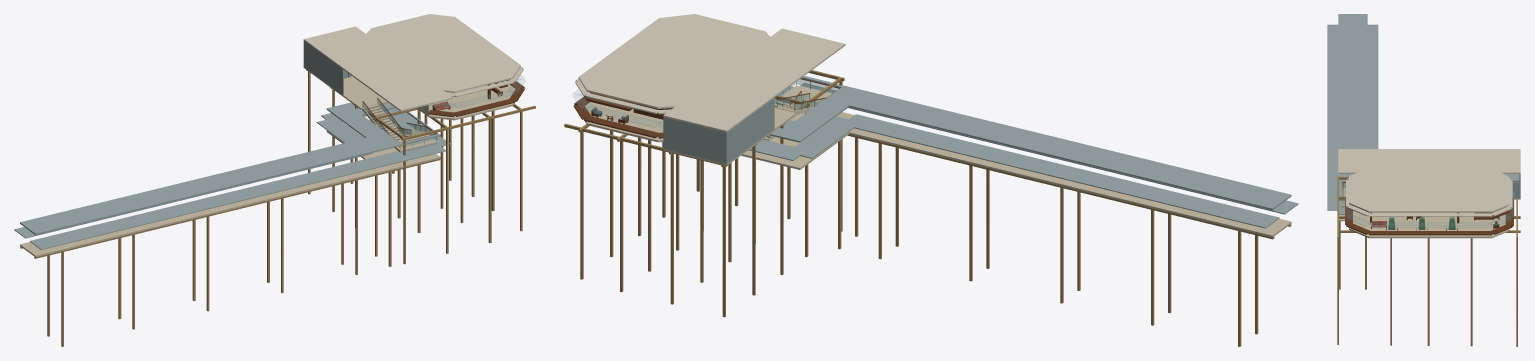
File: D04_STARBOARD_AFT_CO_r001.glb
3 renders of one model, left to right at view 1: azimuth 30°, elevation 25°; view 2: azimuth 150°, elevation 25°; view 3: azimuth 270°, elevation 25°, orthographic. The views are drawn at different scales.
Parts seen in each view (by area): view 1: SAC_CommonsRoof, SAC_LowerSharedRoof, SAC_LowerScreen_5, SAC_LowerSharedFloor, SAC_CommonsFloor, SAC_ServiceWest, SAC_StaffStair450, SAC_LowerTransfer_383.15, SAC_LowerScreen_3, SAC_LowerScreen_6, SAC_LowerScreen_0, SAC_LowerScreen_2 (+3 smaller); view 2: SAC_CommonsRoof, SAC_LowerSharedRoof, SAC_LowerScreen_3, SAC_LowerSharedFloor, SAC_ServiceNorth, SAC_CommonsFloor, SAC_ServiceWest, SAC_LowerScreen_2, SAC_LowerTransfer_379.25, SAC_LowerScreen_5, SAC_StaffStair450, SAC_LowerScreen_1 (+5 smaller); view 3: SAC_CommonsRoof, SAC_LowerSharedRoof, SAC_CommonsFloor, SAC_LowerScreen_5, SAC_LowerScreen_3, SAC_PerimeterGlass_3, SAC_PerimeterDado_3, SAC_PerimeterHead_3, SAC_LowerScreen_6, SAC_UpperBearing_82.45_363.5, SAC_UpperBearing_82.45_369.9, SAC_UpperBearing_82.45_356.7 (+3 smaller).
Part boxes in pixels (<box>): SAC_CommonsRoof: <box>303,14,520,111</box>; SAC_LowerSharedRoof: <box>20,102,440,234</box>; SAC_LowerScreen_5: <box>30,156,387,249</box>; SAC_LowerSharedFloor: <box>20,120,440,257</box>; SAC_CommonsFloor: <box>303,66,515,120</box>; SAC_ServiceWest: <box>303,41,343,94</box>; SAC_StaffStair450: <box>362,97,426,146</box>; SAC_LowerTransfer_383.15: <box>34,159,440,258</box>; SAC_LowerScreen_3: <box>14,153,372,238</box>; SAC_LowerScreen_6: <box>377,143,446,165</box>; SAC_LowerScreen_0: <box>383,108,450,146</box>; SAC_LowerScreen_2: <box>316,117,364,142</box>; SAC_CommonsRoof: <box>578,14,845,132</box>; SAC_LowerSharedRoof: <box>769,76,1291,210</box>; SAC_LowerScreen_3: <box>845,114,1279,228</box>; SAC_LowerSharedFloor: <box>741,112,1291,237</box>; SAC_ServiceNorth: <box>663,117,727,163</box>; SAC_CommonsFloor: <box>583,102,796,165</box>; SAC_ServiceWest: <box>725,98,774,163</box>; SAC_LowerScreen_2: <box>795,116,860,158</box>; SAC_LowerTransfer_379.25: <box>847,134,1274,239</box>; SAC_LowerScreen_5: <box>861,110,1298,214</box>; SAC_StaffStair450: <box>763,81,827,140</box>; SAC_LowerScreen_1: <box>748,139,806,160</box>; SAC_CommonsRoof: <box>1338,149,1520,212</box>; SAC_LowerSharedRoof: <box>1338,14,1367,200</box>; SAC_CommonsFloor: <box>1349,198,1520,238</box>; SAC_LowerScreen_5: <box>1327,24,1345,183</box>; SAC_LowerScreen_3: <box>1367,24,1378,148</box>; SAC_PerimeterGlass_3: <box>1369,222,1491,227</box>; SAC_PerimeterDado_3: <box>1369,231,1492,235</box>; SAC_PerimeterHead_3: <box>1369,213,1492,216</box>; SAC_LowerScreen_6: <box>1327,183,1345,210</box>; SAC_UpperBearing_82.45_363.5: <box>1470,239,1472,346</box>; SAC_UpperBearing_82.45_369.9: <box>1427,239,1429,345</box>; SAC_UpperBearing_82.45_356.7: <box>1516,230,1517,346</box>.
Size of the model in its own units: 81.75 by 24.03 by 28.8.
Materials: 87 (82 with a texture image).
